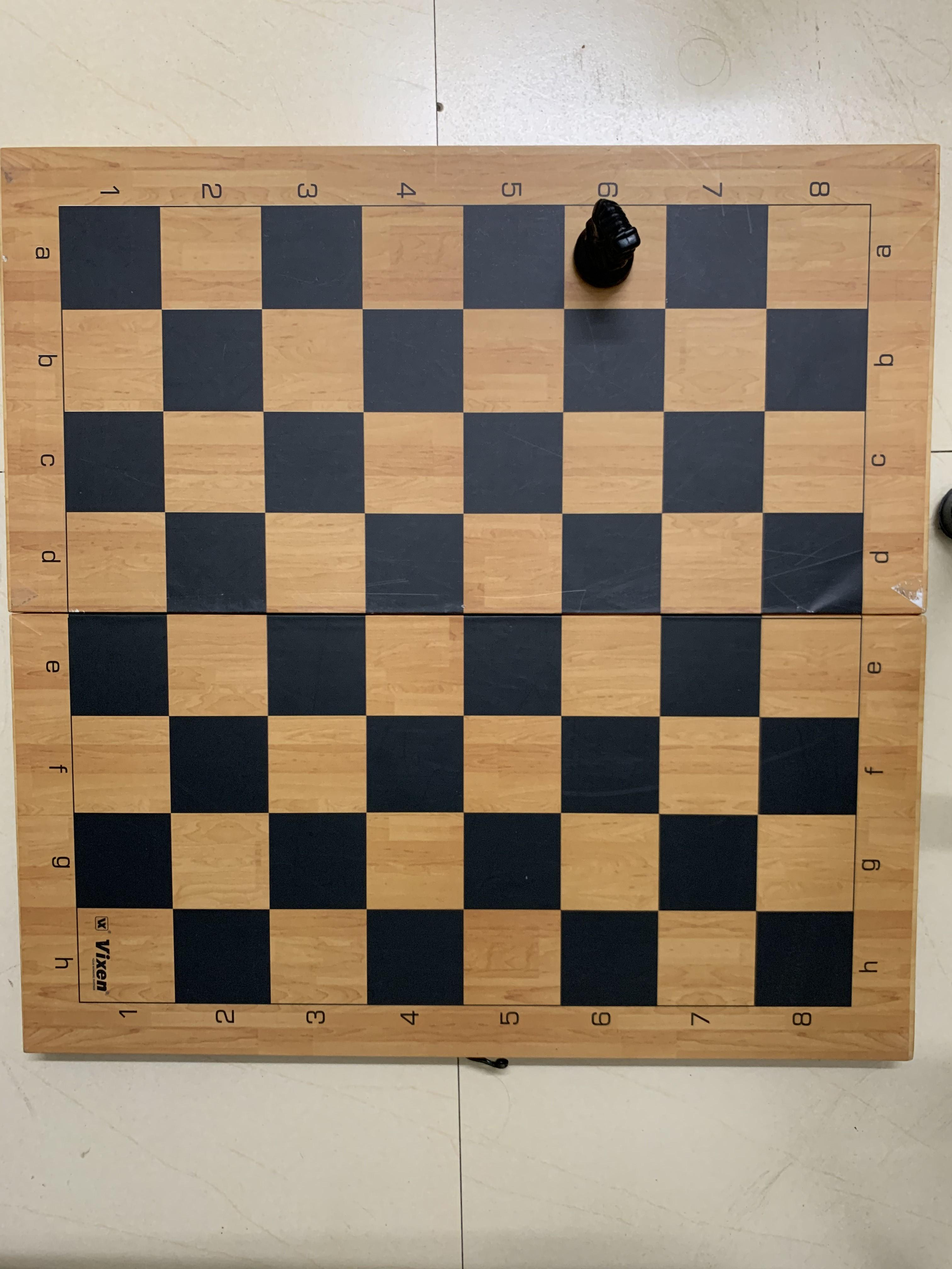black_knight: (561, 191, 664, 306)
